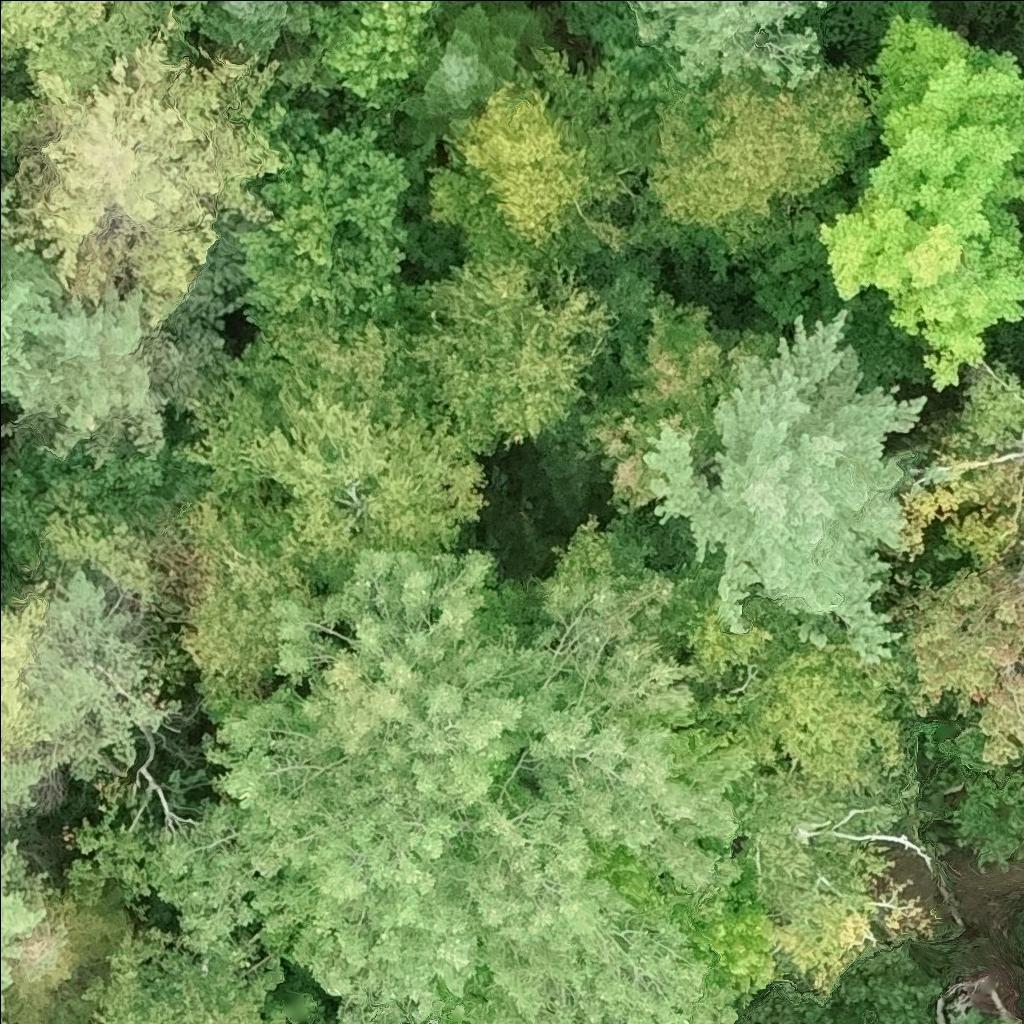crown: (63, 547, 763, 1023), (638, 307, 936, 671), (10, 8, 290, 341), (811, 11, 1023, 392), (176, 371, 492, 590), (621, 62, 874, 286), (384, 244, 619, 461), (566, 268, 767, 514), (441, 46, 654, 270), (229, 123, 416, 332), (15, 564, 181, 785), (4, 272, 179, 461), (698, 644, 908, 801), (179, 489, 325, 691), (881, 565, 1023, 772), (382, 0, 566, 150), (600, 851, 779, 995), (646, 556, 801, 695), (73, 931, 294, 1023), (306, 0, 452, 137), (624, 0, 835, 92), (223, 300, 402, 406), (7, 880, 139, 1023), (0, 0, 178, 93), (0, 171, 66, 404), (533, 506, 670, 607), (0, 832, 58, 1023), (0, 582, 48, 771), (194, 0, 318, 59), (0, 81, 49, 161), (0, 752, 50, 824), (877, 0, 946, 25)
